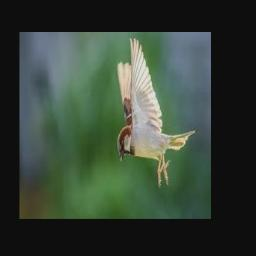Sparrow: (116, 38, 195, 187)
